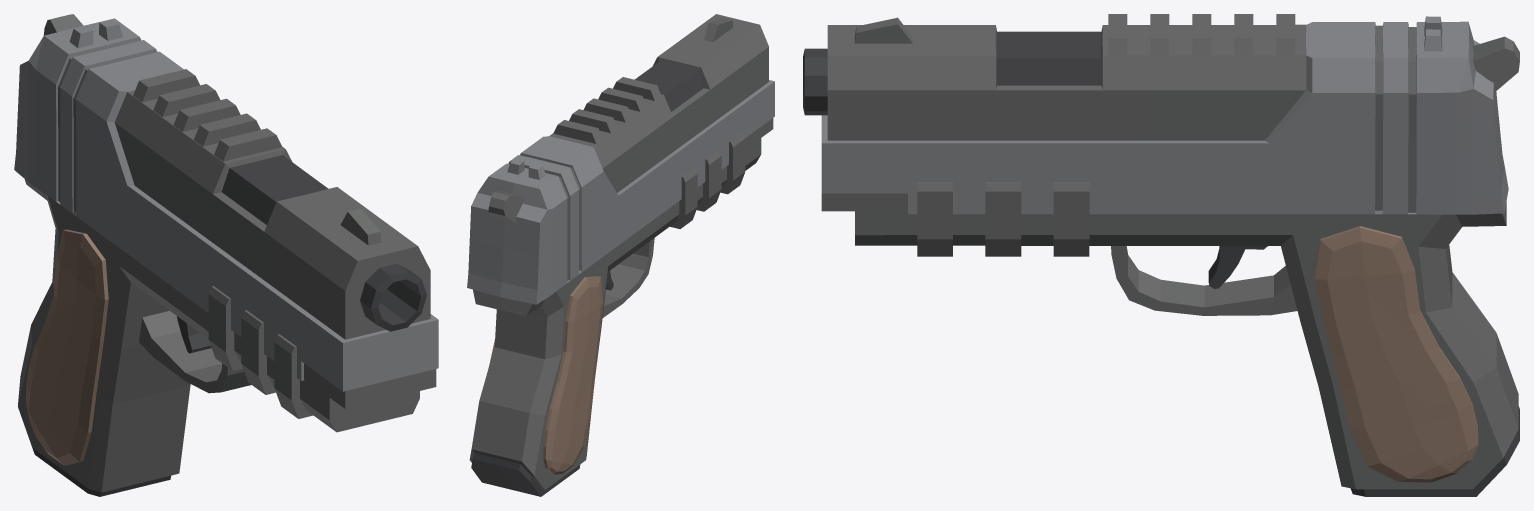
The model's file is pistol_3.glb.
3 renders of one model, left to right at view 1: azimuth 30°, elevation 25°; view 2: azimuth 150°, elevation 25°; view 3: azimuth 270°, elevation 25°, orthographic. The views are drawn at different scales.
Visible parts, largest first — view 1: pistol_3; view 2: pistol_3; view 3: pistol_3.
Boxes of the visible parts, x1,y1,x2,y2 form: pistol_3: [14, 14, 438, 496]; pistol_3: [467, 14, 774, 496]; pistol_3: [803, 14, 1519, 496].
Size of the model in its own units: 0.0296 by 0.1163 by 0.1659.
